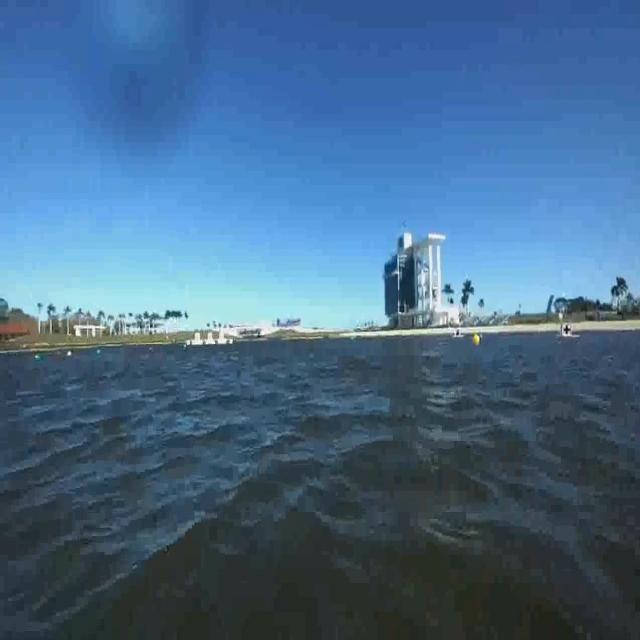yellow-buoy: (472, 334, 479, 348)
